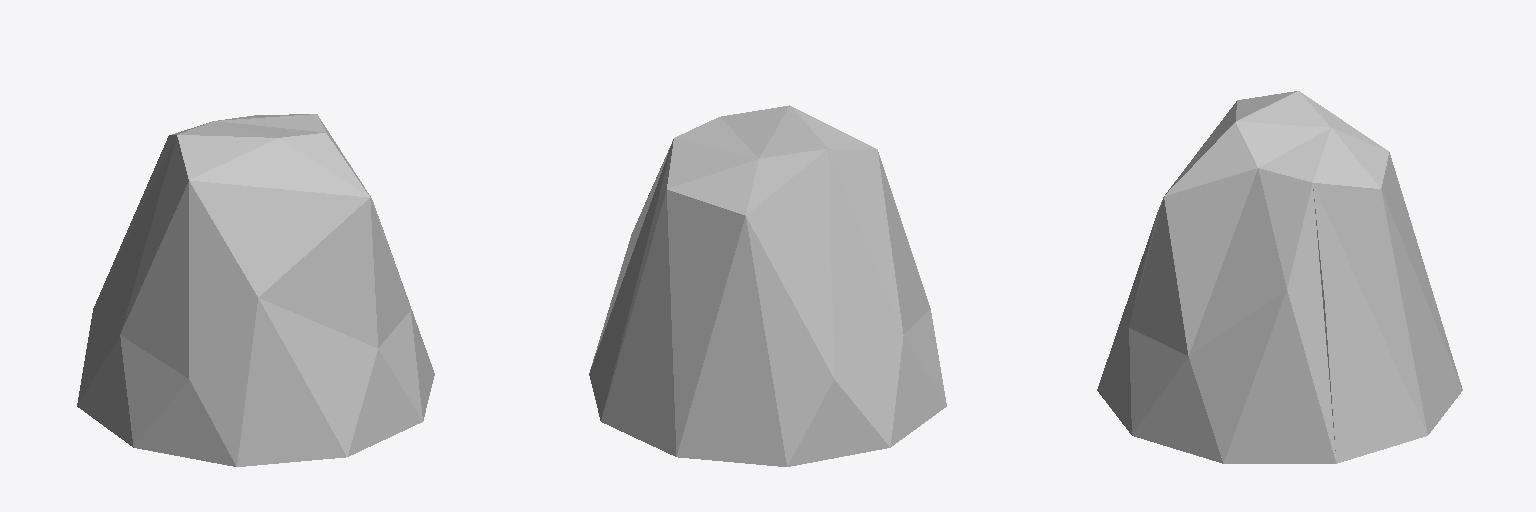
File: BigRock1.obj
3 views of the same model, side by side, from view 1: azimuth 30°, elevation 25°; view 2: azimuth 150°, elevation 25°; view 3: azimuth 270°, elevation 25° (orthographic).
Parts seen in each view (by area): view 1: Icosphere; view 2: Icosphere; view 3: Icosphere.
Part boxes in pixels (left/top/right/bottom): Icosphere: left=77, top=114, right=434, bottom=466; Icosphere: left=589, top=105, right=946, bottom=466; Icosphere: left=1097, top=91, right=1462, bottom=463.
Size of the model in its own units: 1.9 by 1.62 by 2.